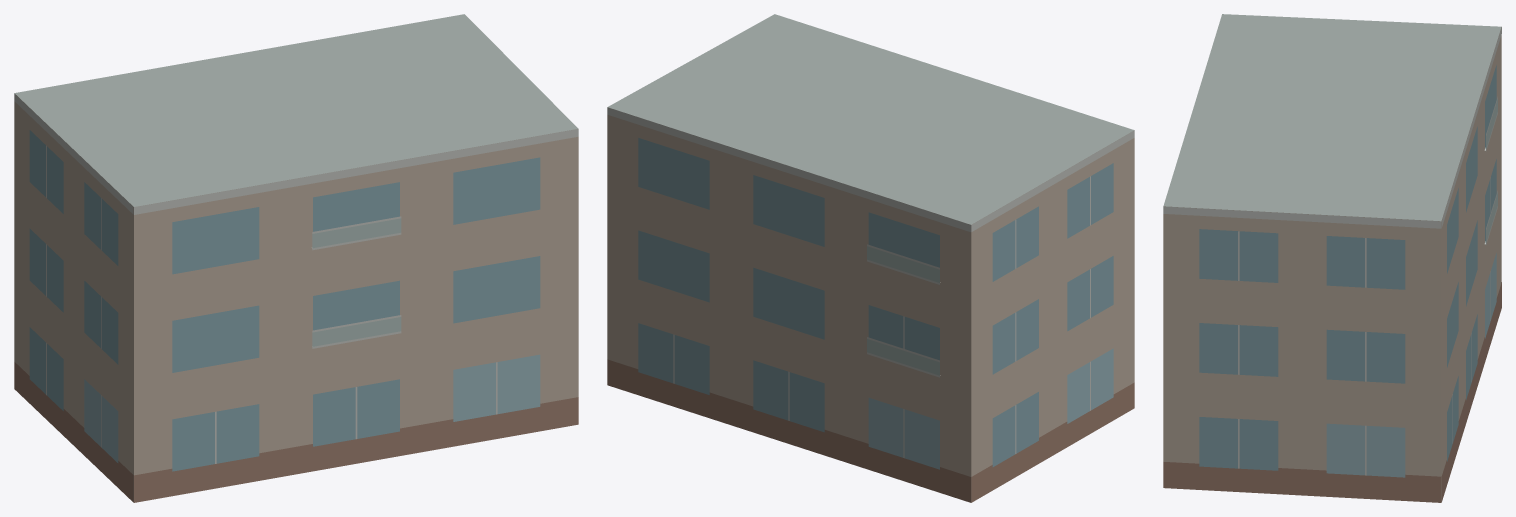
Rendered from survey-upis-32598749.glb.
3 renders of one model, left to right at view 1: azimuth 30°, elevation 25°; view 2: azimuth 150°, elevation 25°; view 3: azimuth 270°, elevation 25°, orthographic. The views are drawn at different scales.
Parts seen in each view (by area): view 1: survey-upis-32598749.tmp; view 2: survey-upis-32598749.tmp; view 3: survey-upis-32598749.tmp.
Part boxes in pixels (<box>): survey-upis-32598749.tmp: <box>14,14,578,502</box>; survey-upis-32598749.tmp: <box>607,14,1134,502</box>; survey-upis-32598749.tmp: <box>1163,14,1501,502</box>.
Size of the model in its own units: 14.37 by 9.1 by 9.92.
